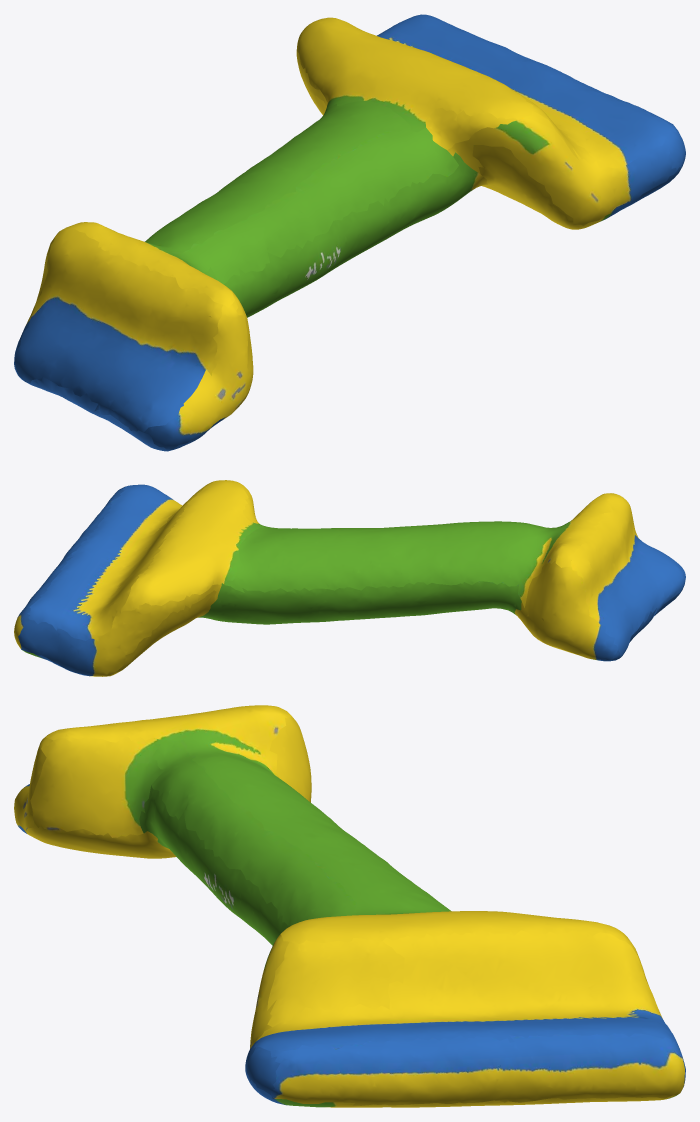
File: logroll.glb
The picture shows the model from 3 angles, top to bottom: view 1: azimuth 30°, elevation 25°; view 2: azimuth 150°, elevation 25°; view 3: azimuth 270°, elevation 25°; orthographic projection. The views are drawn at different scales.
Visible parts, largest first — view 1: geometry_0; view 2: geometry_0; view 3: geometry_0.
Part boxes in pixels (x1=…): geometry_0: x1=14, y1=14, x2=685, y2=451; geometry_0: x1=14, y1=480, x2=685, y2=676; geometry_0: x1=14, y1=705, x2=685, y2=1107.
Bounding box in the file's own units: 0.9362 × 0.1872 × 0.793.
1 material, 1 textured.
